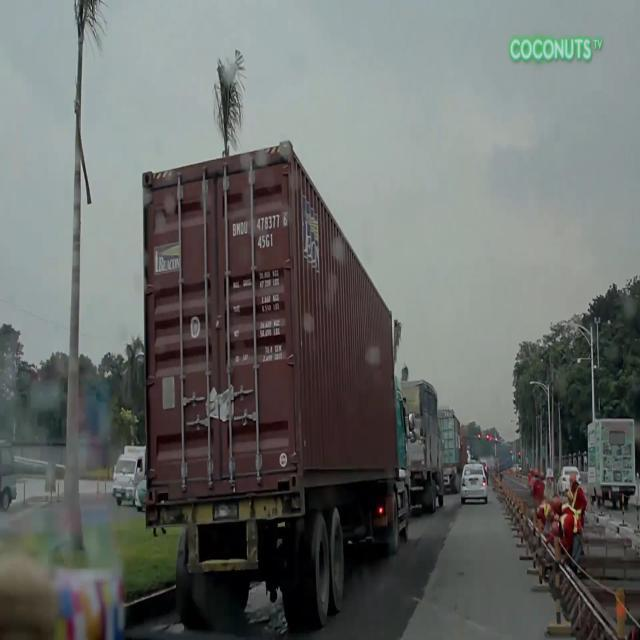truck: (141, 136, 410, 622), (398, 380, 444, 514), (582, 418, 636, 509), (439, 406, 462, 494)
